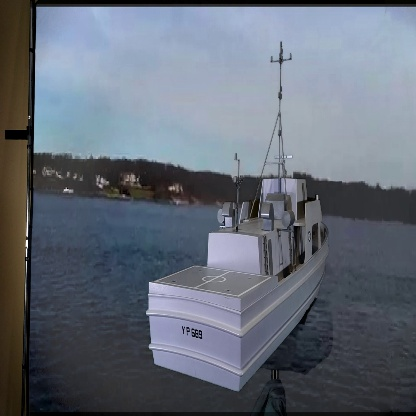YP689: (147, 39, 331, 391)
